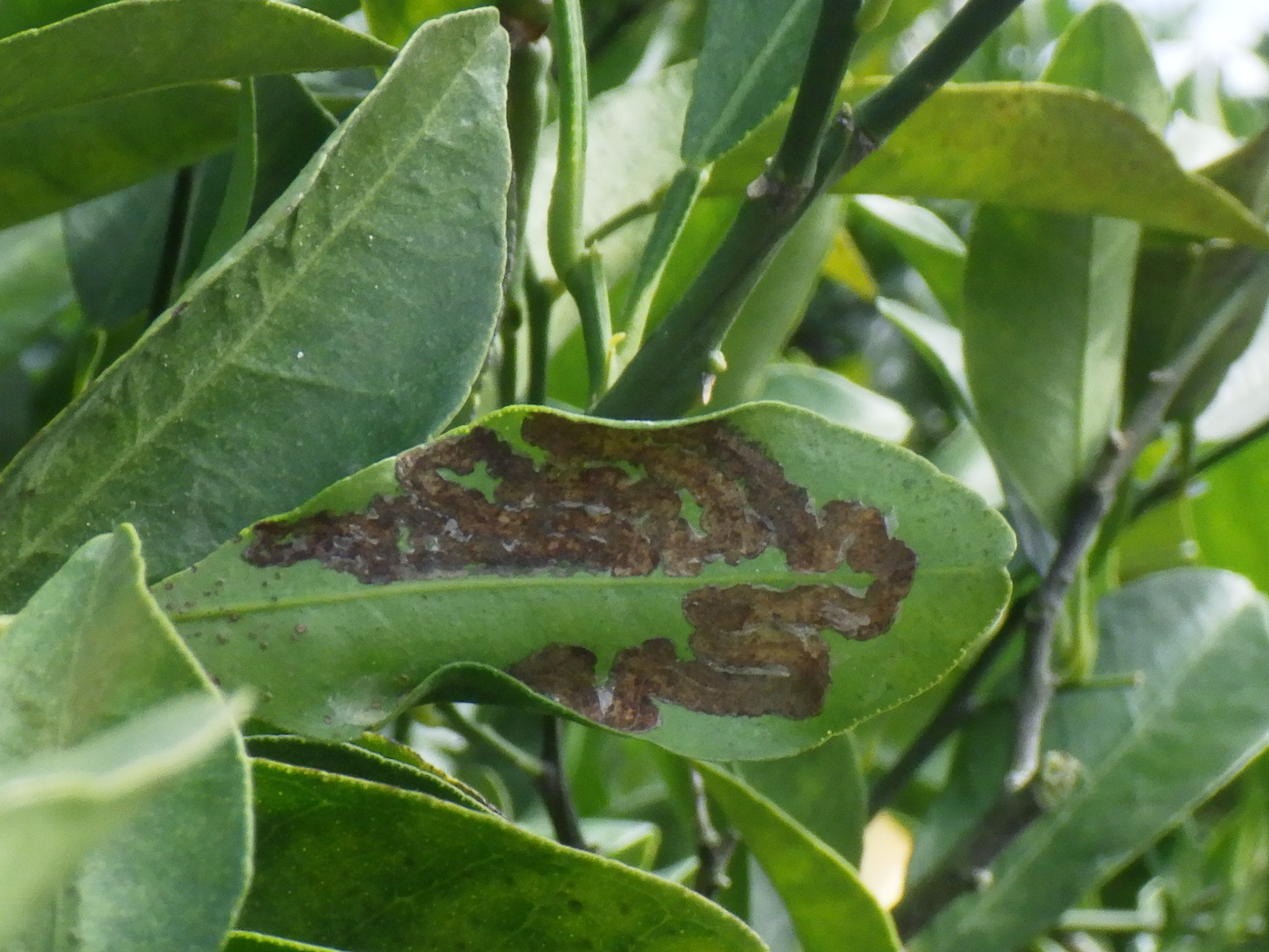Citrus_Leaf_Miner: (242, 413, 916, 731)
